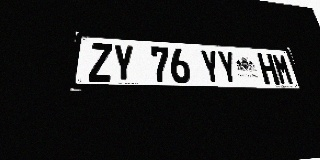6: (169, 48, 191, 83)
7: (149, 46, 172, 83)
H: (257, 53, 280, 85)
M: (271, 54, 295, 85)
Y: (113, 44, 135, 82), (199, 49, 222, 84), (216, 50, 239, 84)
Z: (88, 43, 112, 82)
